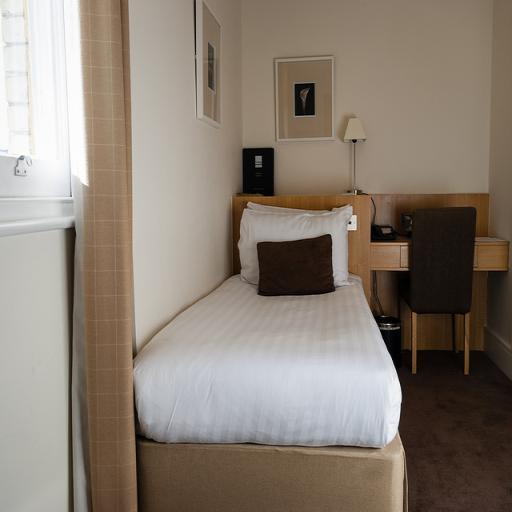bed: (144, 182, 408, 508)
